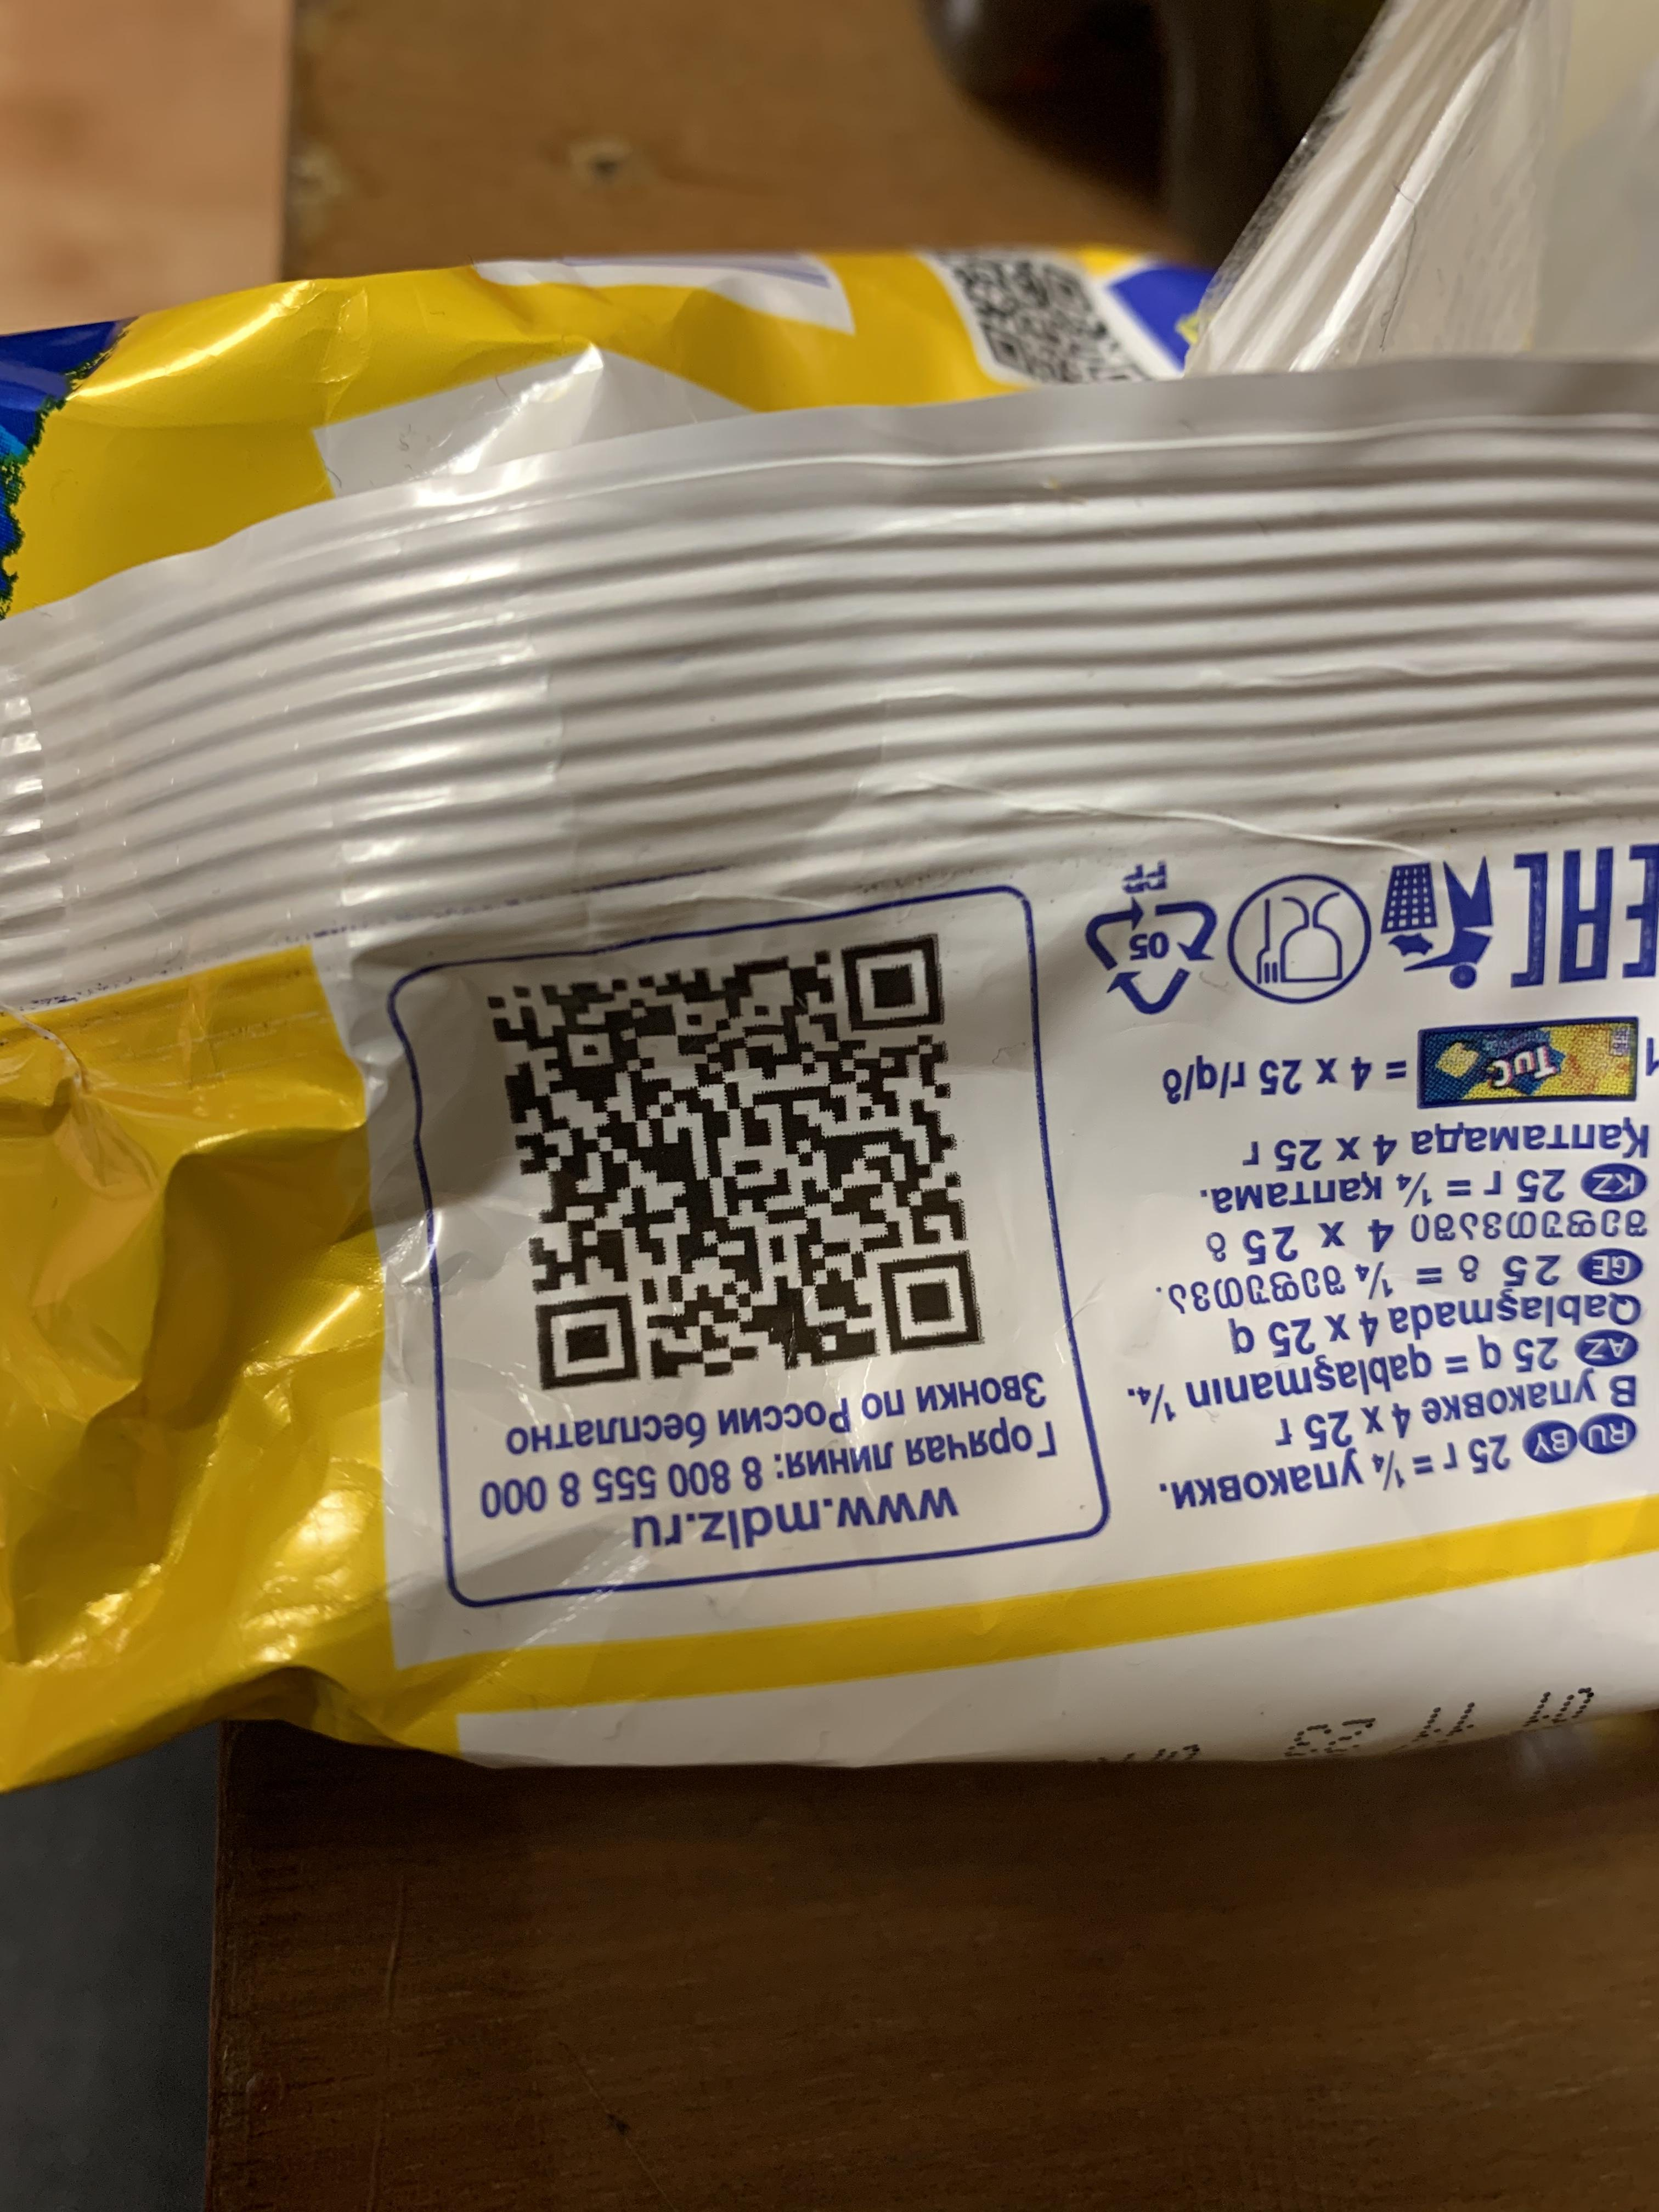qrcode: (481, 934, 988, 1392)
